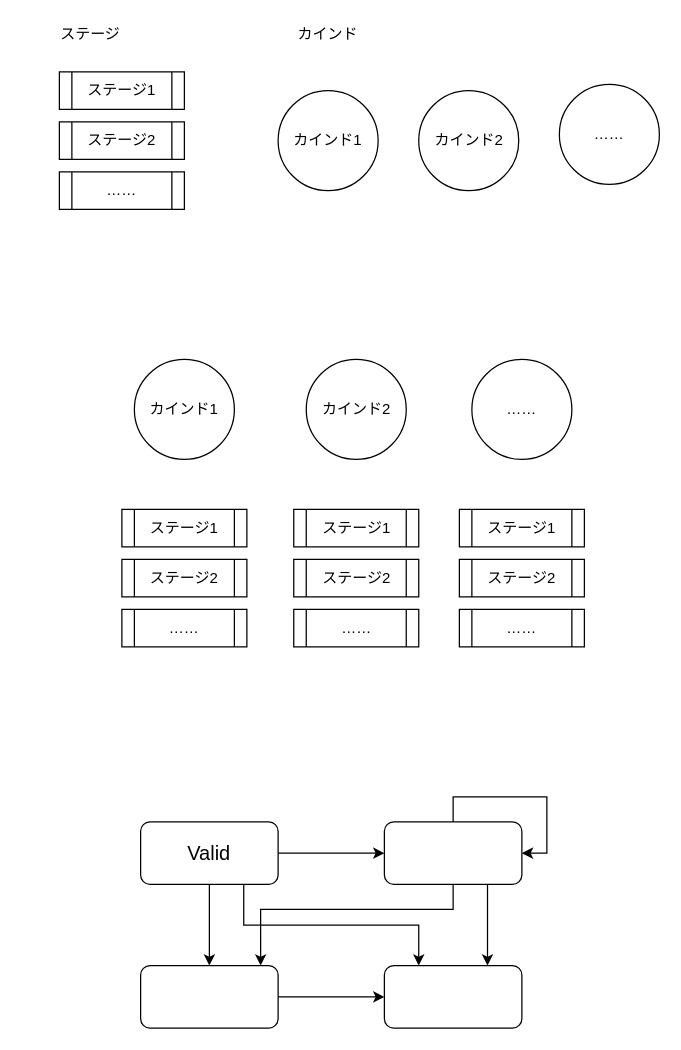
Image size: 681x1050. Some labels were removed from this diagram. Here are the shapes that lost their labels. From the top down, the box of each, then its label:
(383, 821, 522, 884): Updated
(139, 964, 278, 1028): Invalid
(383, 964, 522, 1028): Forgot
